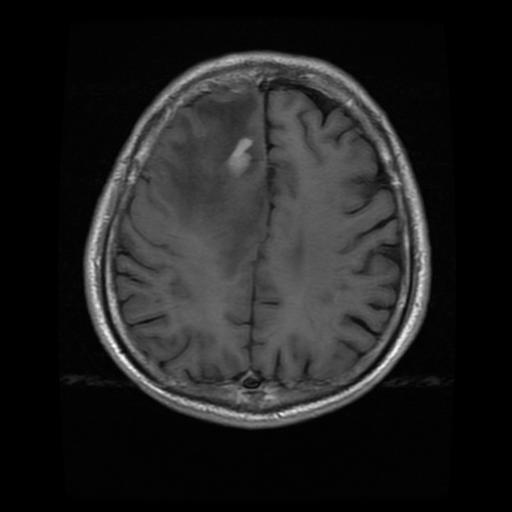Gliomia_tumour: (156, 91, 264, 277)
